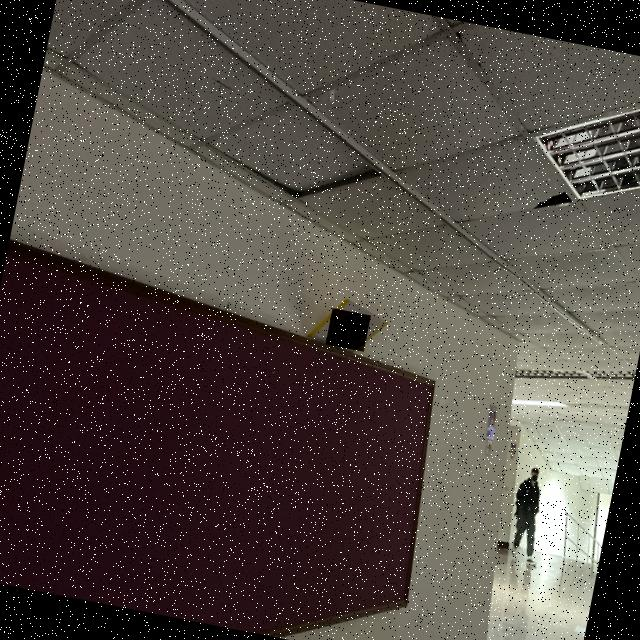archery-targets: (326, 308, 370, 352)
